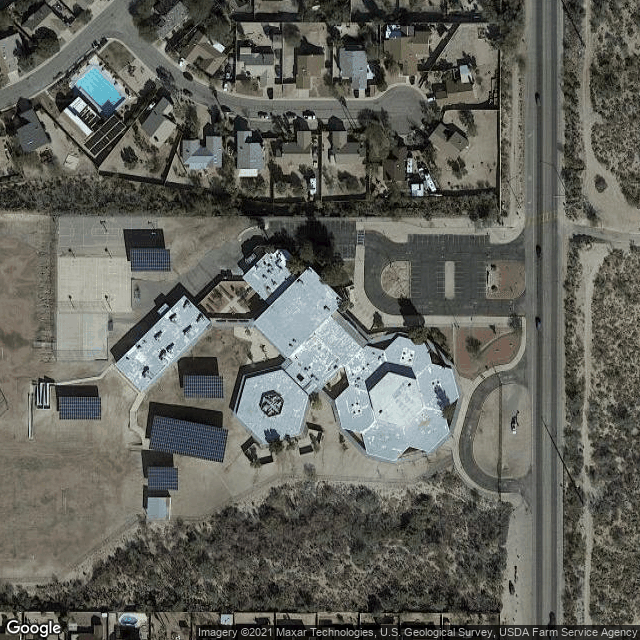carport-fixed: (145, 416, 231, 464), (132, 250, 172, 274), (59, 394, 99, 418), (180, 372, 220, 396), (146, 467, 175, 490)
